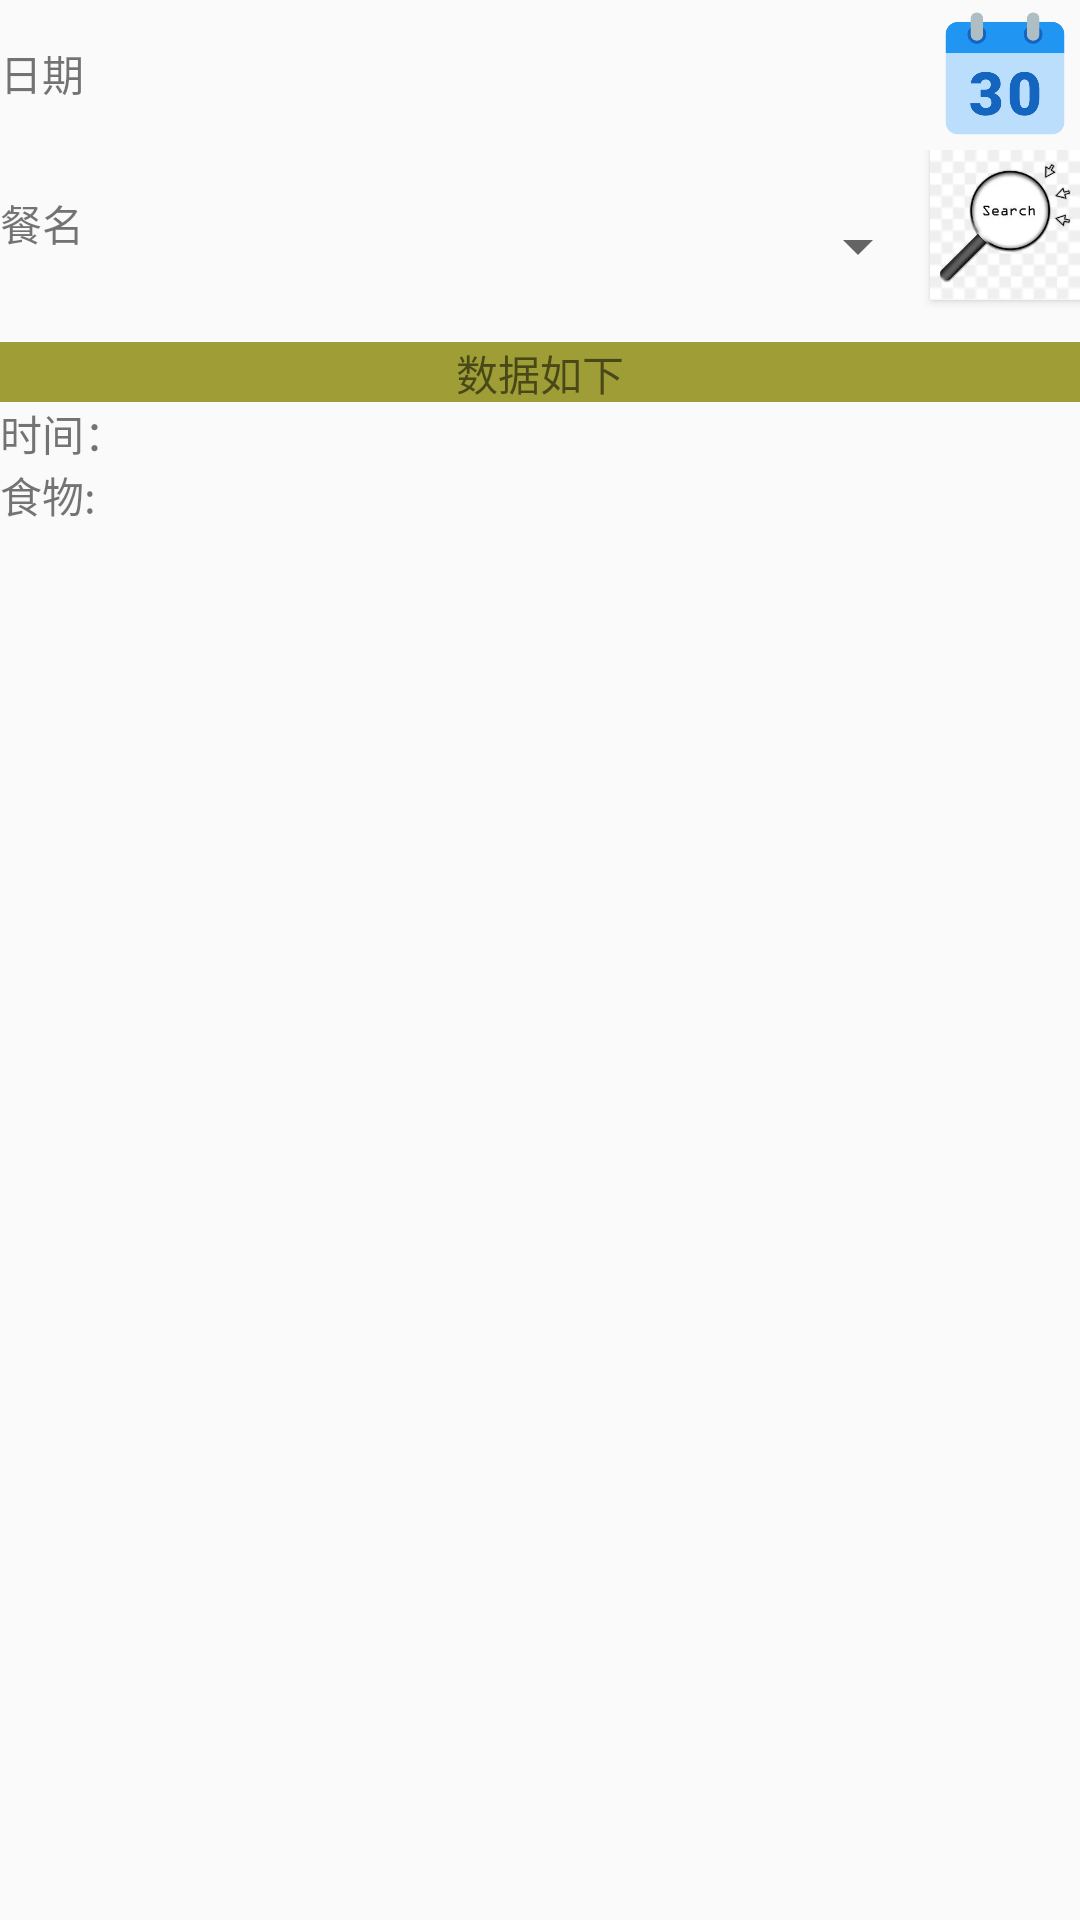

Screen size 1080×1920. Icon name, then its box in pixels as (x1, y1, x2, y2):
calendar: (945, 12, 1065, 134)
